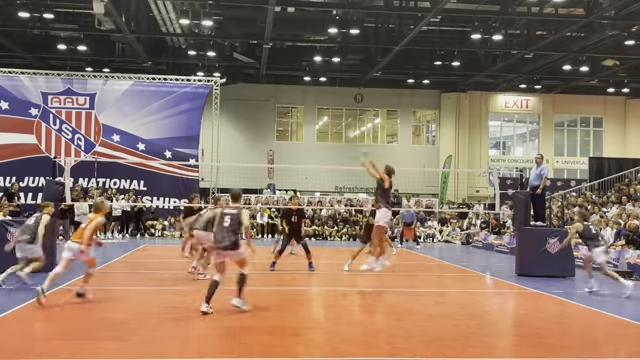Player: (36, 200, 107, 304), (200, 190, 252, 314), (562, 210, 632, 296), (0, 202, 54, 286), (183, 196, 223, 279), (270, 195, 314, 270), (344, 199, 377, 270), (181, 194, 201, 225), (271, 221, 284, 253)
Set: (346, 151, 398, 272)
